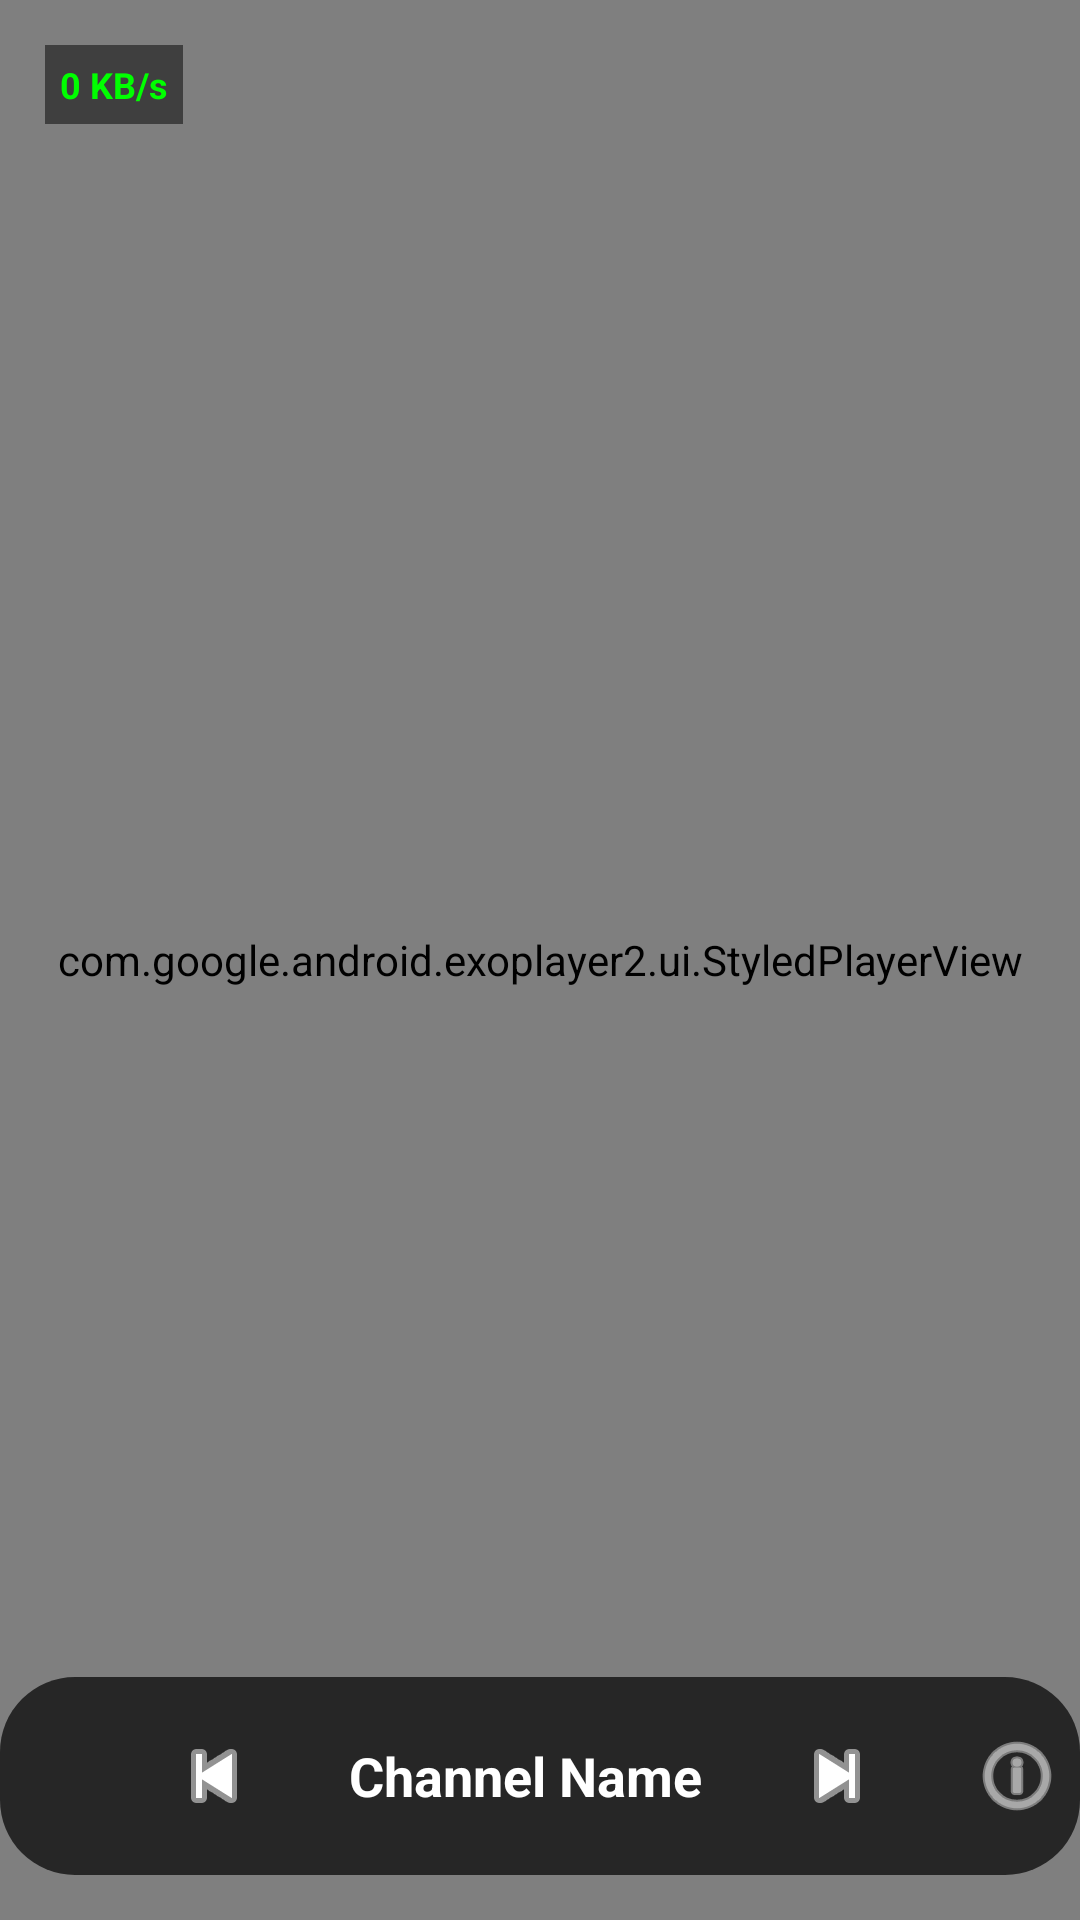

Icons on this 1080×1920 Android screen, each with its box as (x1, y1, x2, y2):
info details: (982, 1742, 1052, 1811)
next: (814, 1749, 860, 1803)
previous: (191, 1749, 237, 1803)
